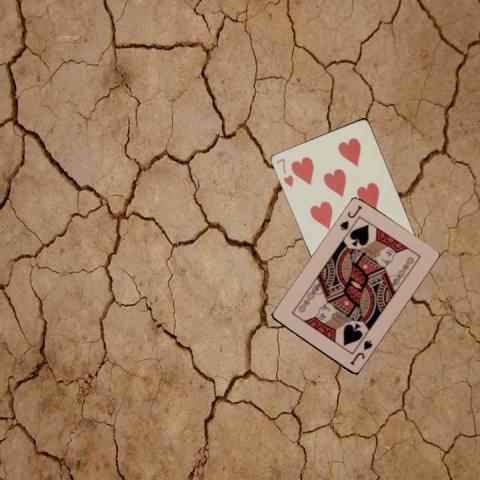7h: (273, 155, 295, 189)
Js: (347, 338, 374, 368), (337, 203, 364, 232)
